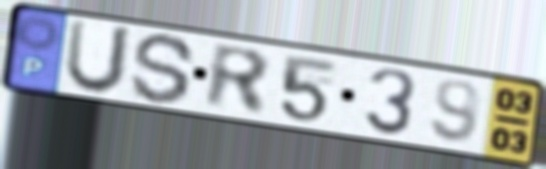3: (362, 66, 418, 138)
5: (280, 52, 341, 125)
9: (429, 78, 484, 146)
R: (203, 40, 274, 120)
S: (128, 31, 199, 108)
U: (61, 16, 137, 98)
